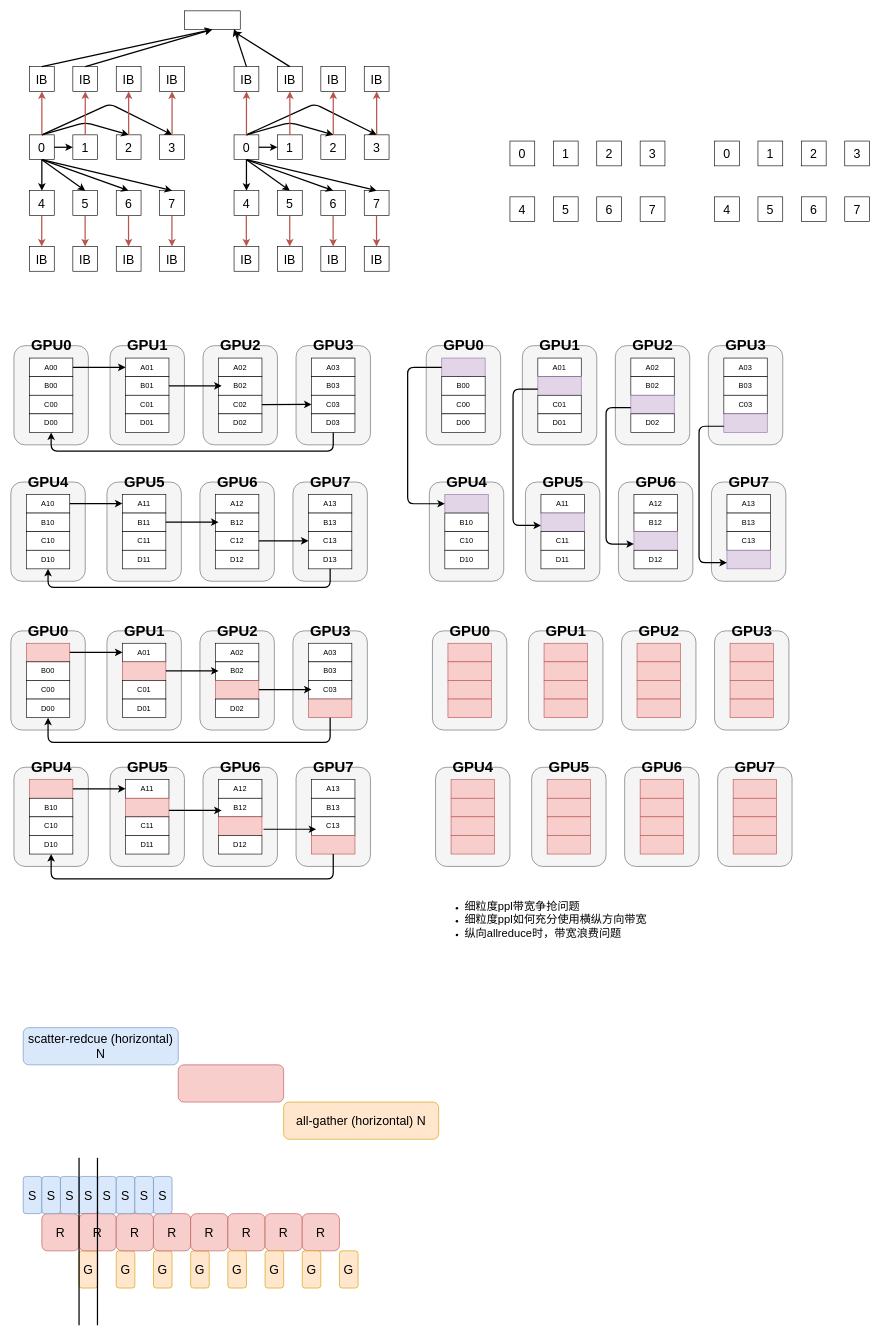
This 880x1337 diagram has some shape labels left out. Each missing label, with the centre of its shape:
"all-reduce(vertical) 2N" belongs at (231,1083).
"IB Switch" belongs at (212,19).
